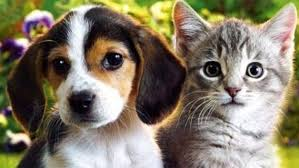cat: (172, 1, 298, 117)
